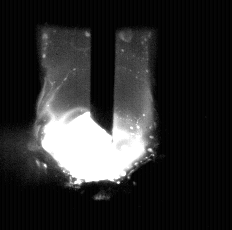arame: (91, 0, 115, 143)
poca: (41, 0, 146, 230)
